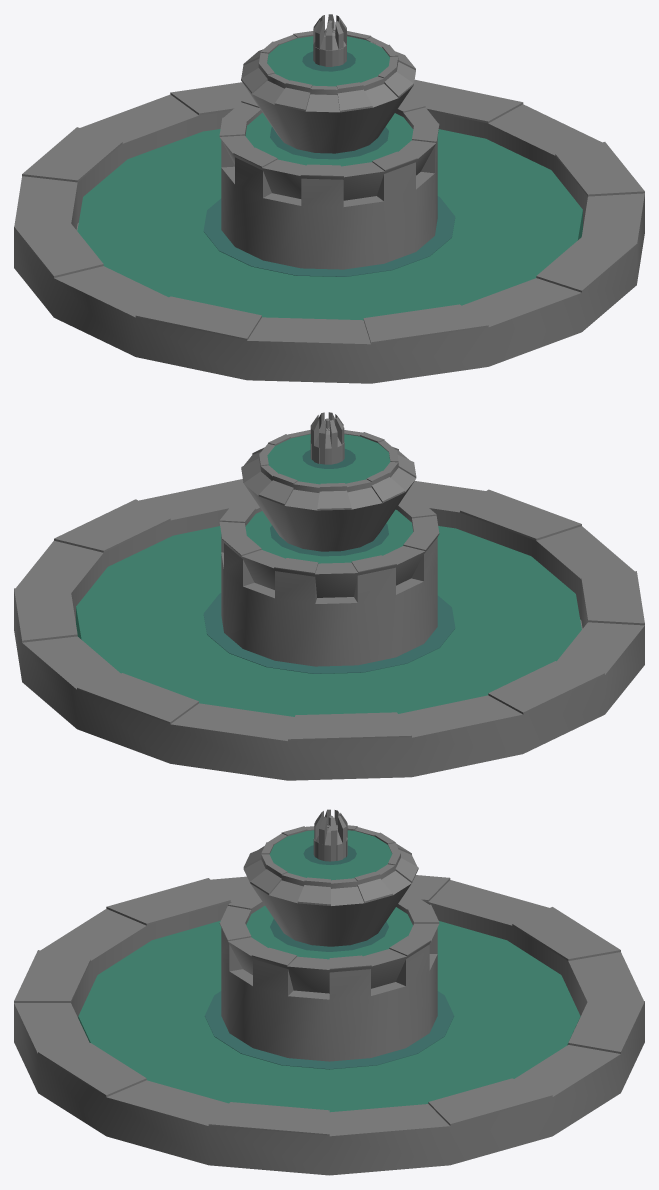
The model's file is 4fuente_lenguaje.fbx.
3 renders of one model, top to bottom at view 1: azimuth 30°, elevation 25°; view 2: azimuth 150°, elevation 25°; view 3: azimuth 270°, elevation 25°, orthographic.
Parts seen in each view (by area): view 1: fuente, Cylinder.001, Cylinder.003, Cylinder.006, agua3, Cylinder.002, Cylinder.005, Cylinder.008; view 2: fuente, Cylinder.001, Cylinder.003, Cylinder.006, agua3, Cylinder.002, Cylinder.005, Cylinder.008; view 3: fuente, Cylinder.001, Cylinder.003, agua3, Cylinder.006, Cylinder.002, Cylinder.005, Cylinder.008.
Part boxes in pixels (x1,y1,x2,y2): fuente: [14, 79, 644, 383]; Cylinder.001: [77, 129, 582, 320]; Cylinder.003: [241, 31, 415, 153]; Cylinder.006: [203, 196, 455, 276]; agua3: [267, 36, 389, 86]; Cylinder.002: [245, 113, 413, 166]; Cylinder.005: [313, 14, 346, 66]; Cylinder.008: [270, 127, 388, 159]; fuente: [14, 479, 644, 780]; Cylinder.001: [76, 526, 581, 716]; Cylinder.003: [241, 430, 416, 551]; Cylinder.006: [203, 593, 455, 673]; agua3: [267, 434, 390, 484]; Cylinder.002: [245, 509, 413, 563]; Cylinder.005: [310, 412, 344, 464]; Cylinder.008: [270, 523, 388, 556]; fuente: [14, 875, 644, 1175]; Cylinder.001: [78, 920, 580, 1112]; Cylinder.003: [243, 825, 418, 946]; agua3: [269, 830, 391, 880]; Cylinder.006: [205, 991, 453, 1069]; Cylinder.002: [246, 906, 412, 959]; Cylinder.005: [313, 809, 347, 861]; Cylinder.008: [270, 919, 388, 951].
Bounding box in the file's own units: 200 × 80.67 × 200.
